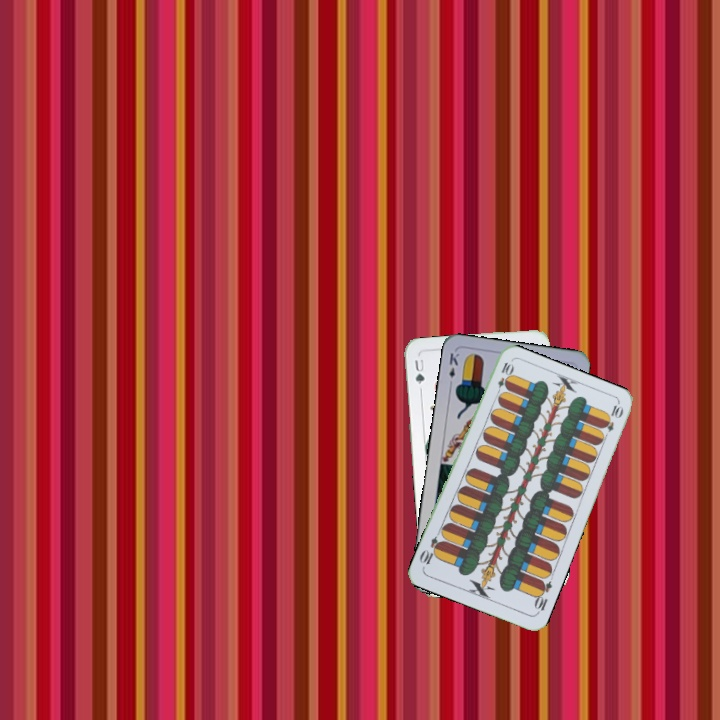E10: (530, 576, 555, 617), (492, 358, 515, 398)
EK: (445, 349, 462, 389)
GU: (411, 355, 427, 387)
